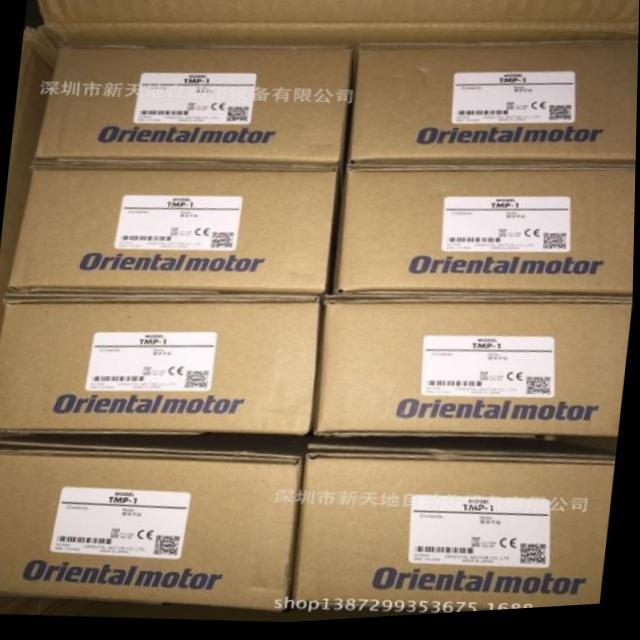box: (293, 448, 618, 618), (0, 440, 305, 615), (313, 299, 634, 445), (0, 296, 324, 438), (8, 166, 341, 297), (336, 170, 636, 305), (31, 44, 354, 169), (347, 49, 639, 173)
